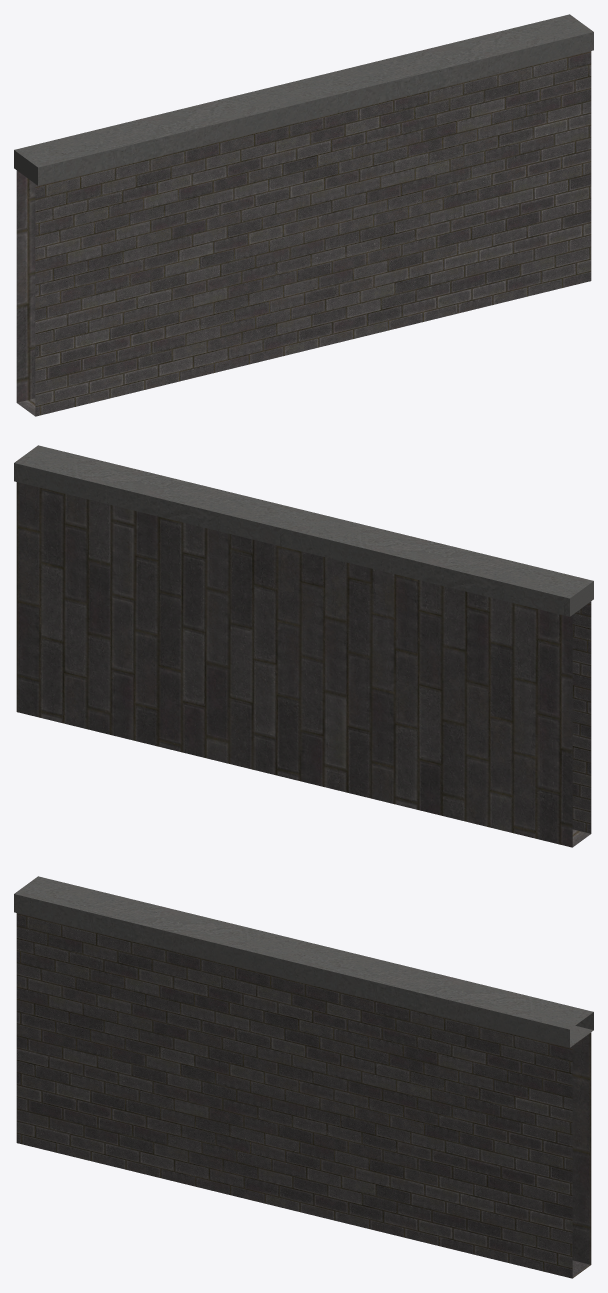
The model's file is Sm_Roof02c.fbx.
3 renders of one model, top to bottom at view 1: azimuth 30°, elevation 25°; view 2: azimuth 150°, elevation 25°; view 3: azimuth 330°, elevation 25°, orthographic.
Visible parts, largest first — view 1: Sm_Roof02c; view 2: Sm_Roof02c; view 3: Sm_Roof02c.
Part boxes in pixels (<box>): Sm_Roof02c: <box>14,14,593,416</box>; Sm_Roof02c: <box>14,445,593,847</box>; Sm_Roof02c: <box>14,876,593,1278</box>.
Size of what is drawn, in the model's own units: 250 by 18.81 by 108.
2 materials, 2 textured.
